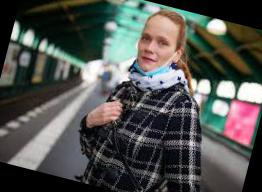mask_weared_incorrect: (132, 20, 179, 81)
